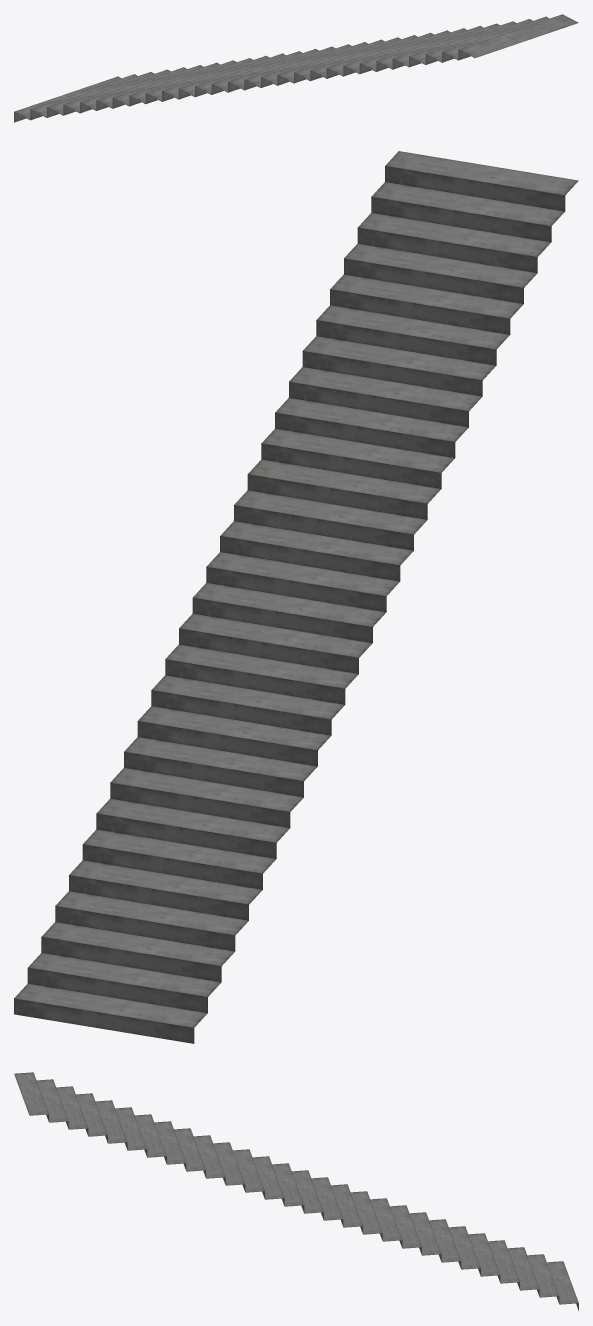
3 renders of one model, top to bottom at view 1: azimuth 30°, elevation 25°; view 2: azimuth 150°, elevation 25°; view 3: azimuth 270°, elevation 25°, orthographic. The views are drawn at different scales.
Parts seen in each view (by area): view 1: Cube.029; view 2: Cube.029; view 3: Cube.029.
Boxes of the visible parts, x1,y1,x2,y2 form: Cube.029: (14, 14, 578, 122); Cube.029: (14, 151, 578, 1043); Cube.029: (14, 1072, 578, 1310).
Bounding box in the file's own units: 525 × 726 × 1604.
